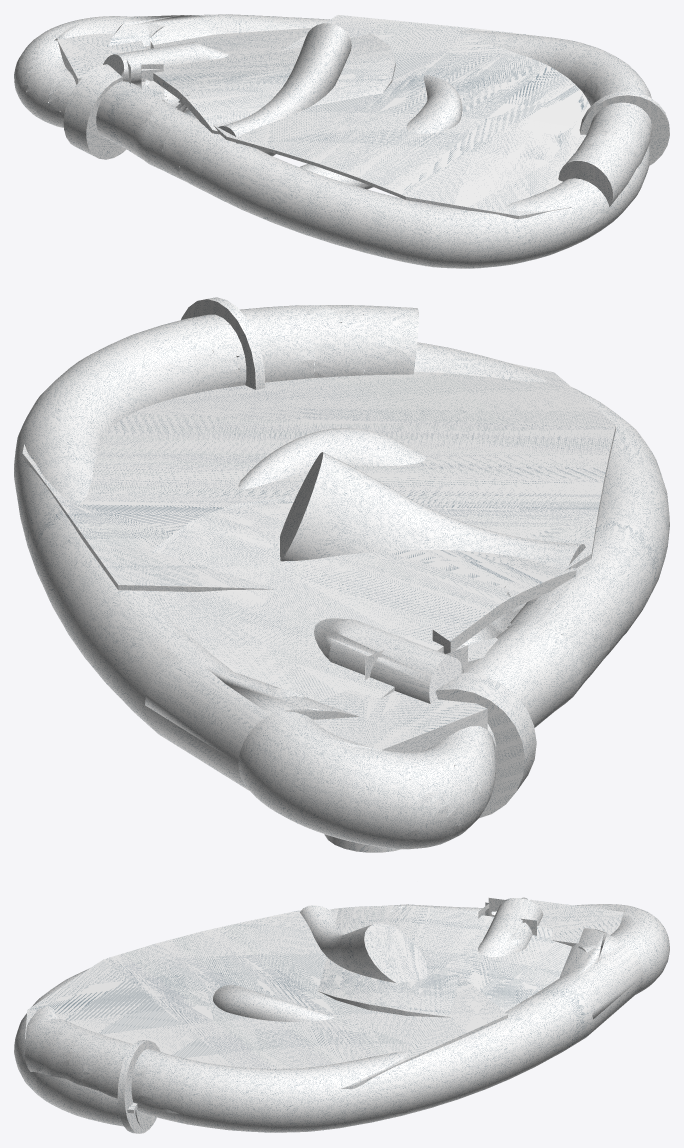
The model's file is ear.dae.
3 renders of one model, top to bottom at view 1: azimuth 30°, elevation 25°; view 2: azimuth 150°, elevation 25°; view 3: azimuth 270°, elevation 25°, orthographic. The views are drawn at different scales.
Visible parts, largest first — view 1: group_0 (×5), group_2, group_1, group_3; view 2: group_0 (×4), group_2, group_1, group_3; view 3: group_1, group_2, group_0 (×3), group_3.
Boxes of the visible parts, x1,y1,x2,y2 form: group_0 (×5): (14,16,669,268); group_2: (213,15,651,219); group_1: (108,14,652,206); group_3: (145,28,395,134); group_0 (×4): (181,297,669,849); group_2: (22,363,615,591); group_1: (14,305,418,790); group_3: (135,497,576,701); group_1: (25,928,643,1132); group_2: (25,909,507,1113); group_0 (×3): (14,898,669,1133); group_3: (317,905,571,1017).
Size of the model in its own units: 16.17 by 20.09 by 4.96.
